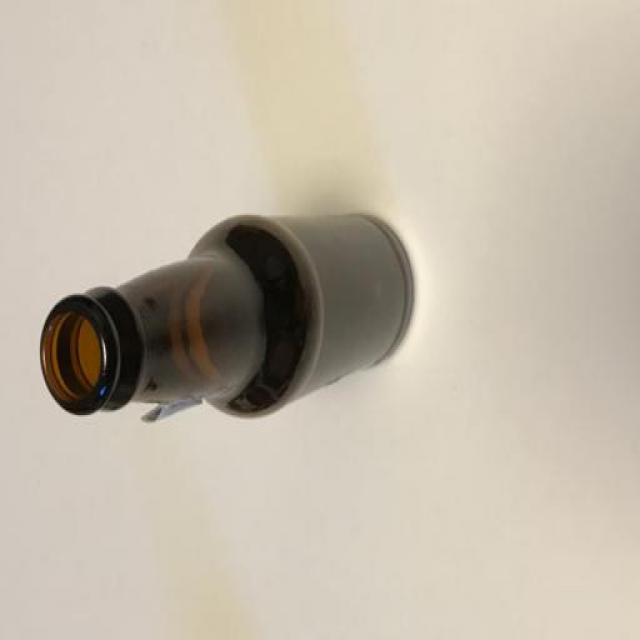glass: (26, 162, 426, 473)
